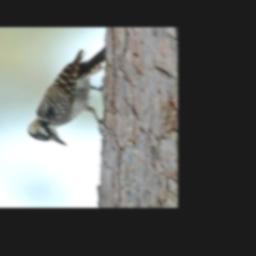Woodpecker: (26, 44, 114, 146)
